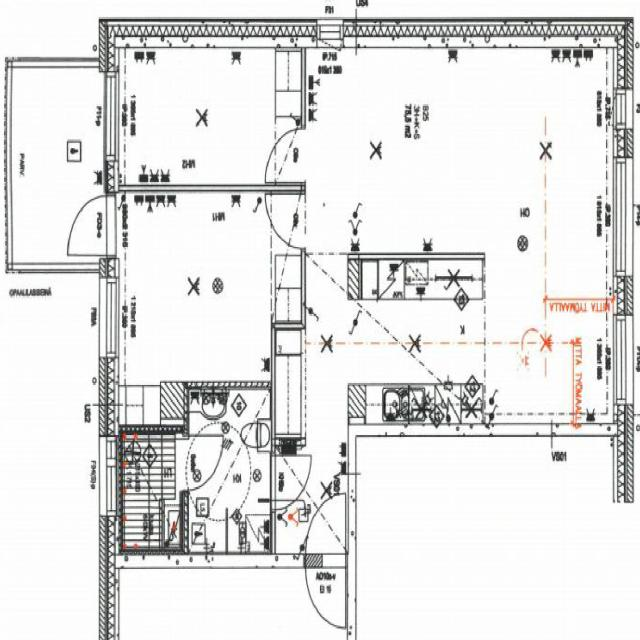door: (305, 554, 346, 630), (305, 492, 346, 568), (66, 195, 116, 254), (185, 435, 225, 490), (265, 193, 305, 247), (265, 128, 305, 182), (271, 455, 310, 508)
